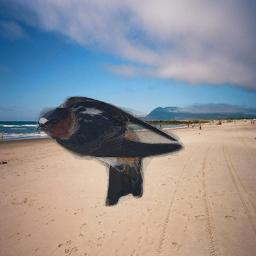Swallow: (34, 94, 185, 207)
